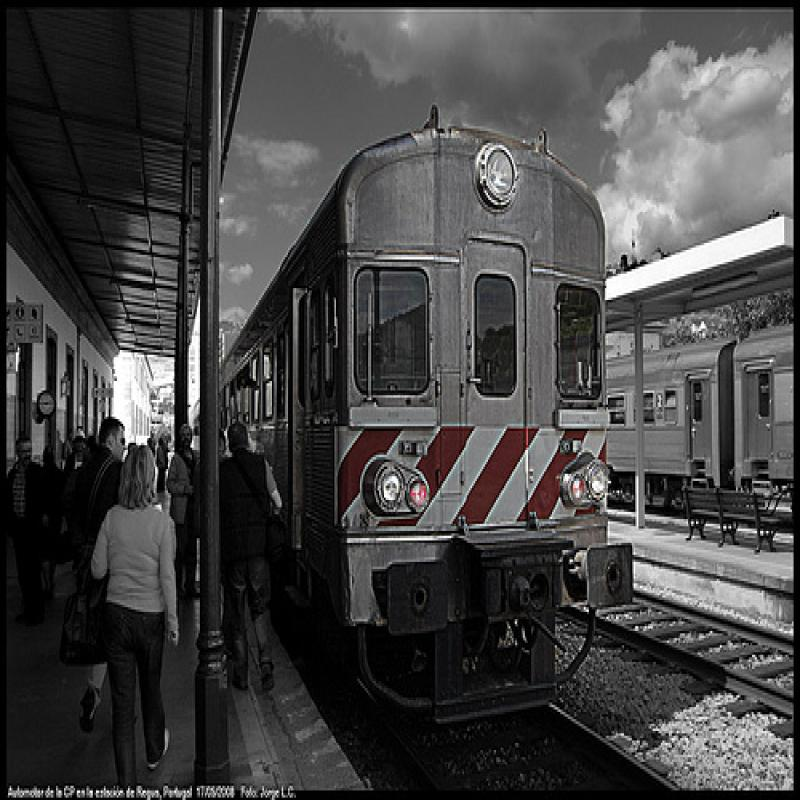train: (193, 108, 636, 734), (611, 320, 798, 508)
